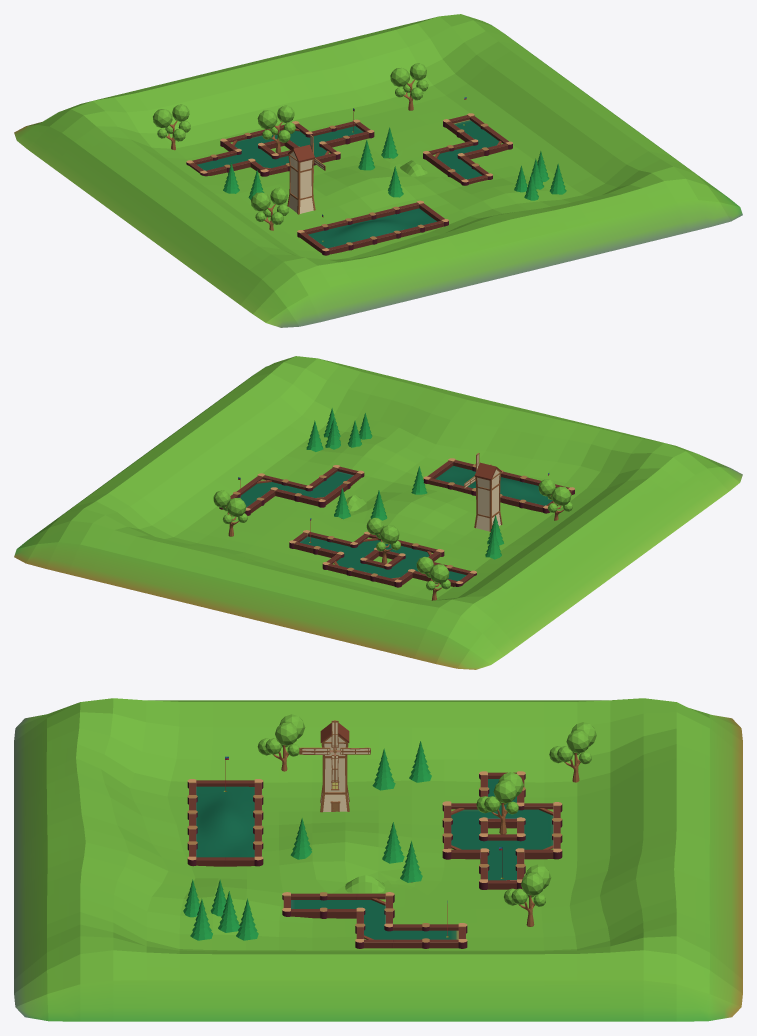
The model's file is course1.fbx.
3 views of the same model, one above another, from view 1: azimuth 30°, elevation 25°; view 2: azimuth 150°, elevation 25°; view 3: azimuth 270°, elevation 25° (orthographic). The views are drawn at different scales.
Parts seen in each view (by area): view 1: Plane, Tree1, Hole2Obstacles, Hole3Obstacles, Hole1Obstacles, Hole3Green, Hole2Green, Windmill, Hole1Green; view 2: Plane, Tree1, Hole2Obstacles, Hole2Green, Hole1Obstacles, Windmill, Hole3Obstacles, Hole3Green, Hole1Green; view 3: Plane, Tree1, Hole2Obstacles, Hole3Green, Hole1Obstacles, Hole2Green, Hole3Obstacles, Hole1Green, Windmill, Windmillblades.
Part boxes in pixels (bbox=[...]): Plane: bbox=[14, 14, 742, 327]; Tree1: bbox=[153, 63, 566, 230]; Hole2Obstacles: bbox=[186, 119, 374, 176]; Hole3Obstacles: bbox=[297, 200, 448, 255]; Hole1Obstacles: bbox=[423, 113, 512, 185]; Hole3Green: bbox=[308, 208, 436, 248]; Hole2Green: bbox=[197, 126, 363, 170]; Windmill: bbox=[287, 144, 315, 214]; Hole1Green: bbox=[437, 119, 499, 179]; Plane: bbox=[14, 356, 742, 669]; Tree1: bbox=[213, 408, 572, 600]; Hole2Obstacles: bbox=[289, 530, 476, 587]; Hole2Green: bbox=[300, 536, 466, 581]; Hole1Obstacles: bbox=[219, 465, 364, 515]; Windmill: bbox=[474, 462, 502, 531]; Hole3Obstacles: bbox=[423, 458, 574, 513]; Hole3Green: bbox=[435, 466, 552, 505]; Hole1Green: bbox=[238, 471, 353, 507]; Plane: bbox=[14, 698, 742, 1021]; Tree1: bbox=[183, 714, 596, 940]; Hole2Obstacles: bbox=[442, 771, 562, 889]; Hole3Green: bbox=[196, 786, 254, 857]; Hole1Obstacles: bbox=[282, 892, 467, 948]; Hole2Green: bbox=[451, 779, 553, 880]; Hole3Obstacles: bbox=[187, 779, 263, 866]; Hole1Green: bbox=[291, 900, 458, 939]; Windmill: bbox=[320, 723, 349, 812]; Windmillblades: bbox=[299, 720, 370, 782].
Bounding box in the file's own units: 10000 × 1486 × 10000.
